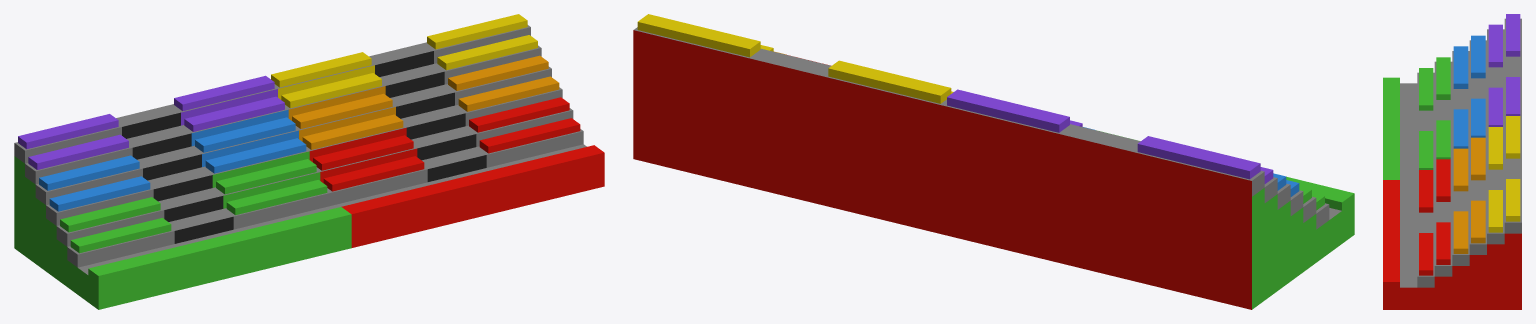
Rendered from MixedBleachers.fbx.
3 renders of one model, left to right at view 1: azimuth 30°, elevation 25°; view 2: azimuth 150°, elevation 25°; view 3: azimuth 270°, elevation 25°, orthographic. The views are drawn at different scales.
Parts seen in each view (by area): view 1: Plane; view 2: Plane; view 3: Plane.
Boxes of the visible parts, left/top/right/bottom form: Plane: left=14, top=14, right=604, bottom=309; Plane: left=633, top=14, right=1354, bottom=309; Plane: left=1383, top=14, right=1521, bottom=309.
Size of the model in its own units: 4048 by 858 by 1165.
